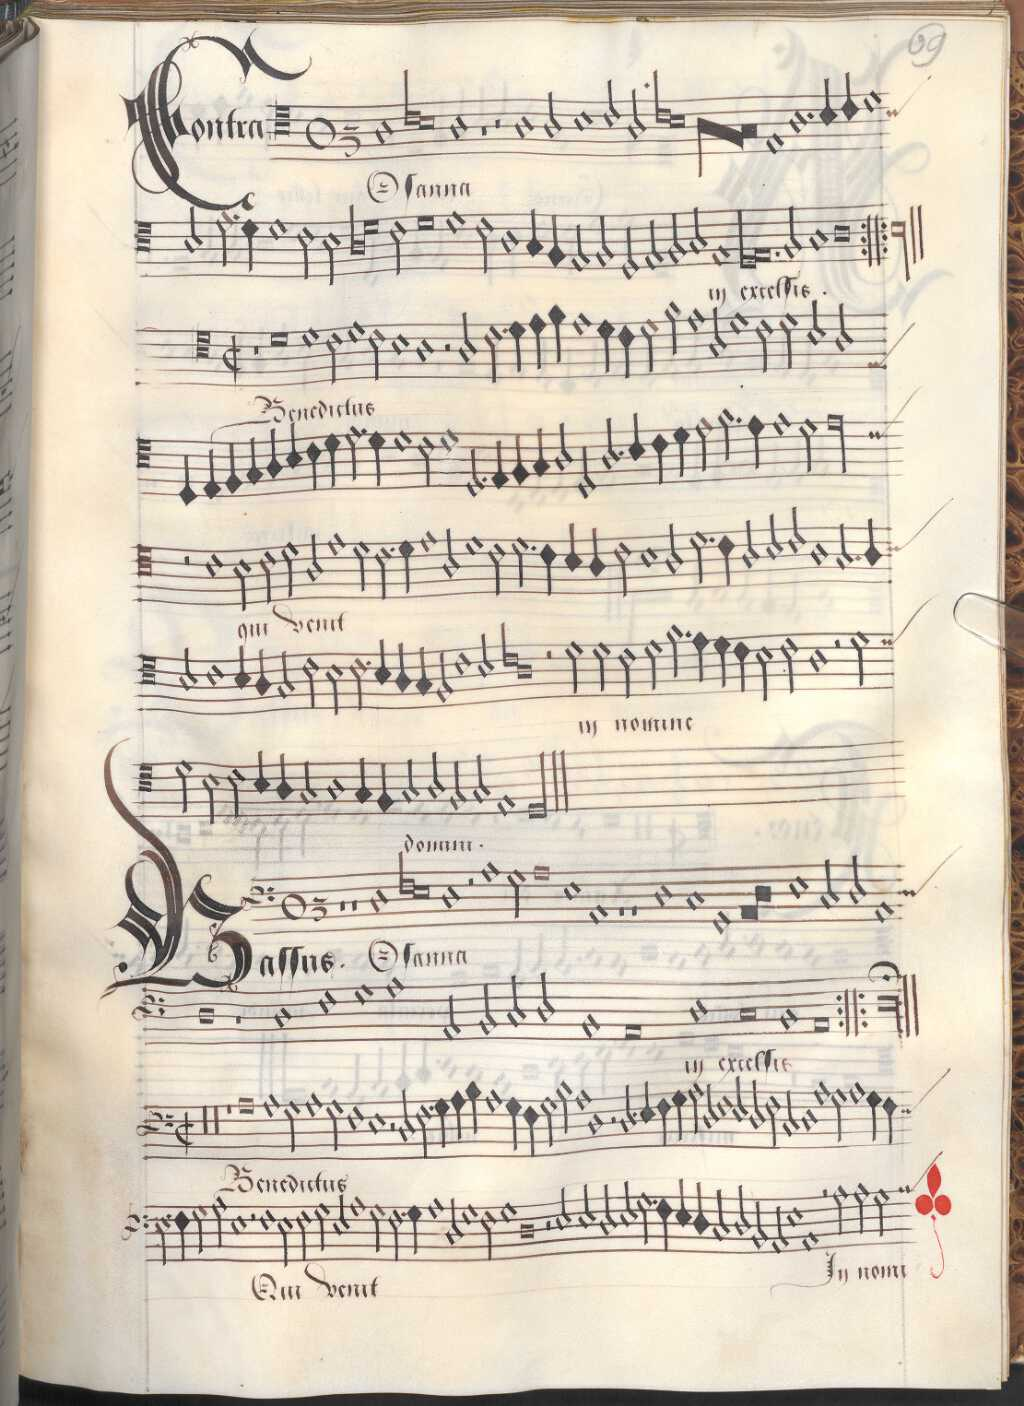c clef_5: (132, 421, 157, 485)
custos_5: (864, 412, 900, 449)
longa_3: (819, 402, 852, 485)
minim_11: (574, 438, 598, 503), (462, 440, 483, 504)
minim_2: (714, 403, 735, 467)
minim_3: (693, 409, 715, 477), (343, 420, 364, 485)
minim_4: (796, 408, 818, 479)
minim_5: (414, 428, 438, 492)
minim_7: (551, 413, 575, 476), (598, 412, 619, 478)
point: (475, 466, 492, 490), (611, 440, 629, 461), (729, 409, 745, 429), (355, 421, 369, 440)
semibreve_3: (769, 403, 793, 445)
semibreve_4: (436, 418, 462, 460), (390, 420, 414, 458)
semiminim_10: (490, 431, 510, 496), (201, 441, 221, 504)
semiminim_11: (177, 446, 198, 509)
semiminim_3: (746, 405, 767, 476)
semiminim_4: (369, 422, 390, 495), (672, 417, 693, 485), (323, 426, 342, 493)
semiminim_5: (650, 424, 671, 495), (303, 433, 324, 496)
semiminim_6: (626, 405, 646, 469), (284, 417, 305, 475)
semiminim_7: (265, 421, 284, 485)
semiminim_8: (243, 431, 264, 492), (529, 422, 550, 482)
semiminim_9: (223, 437, 245, 501), (509, 427, 529, 492)
